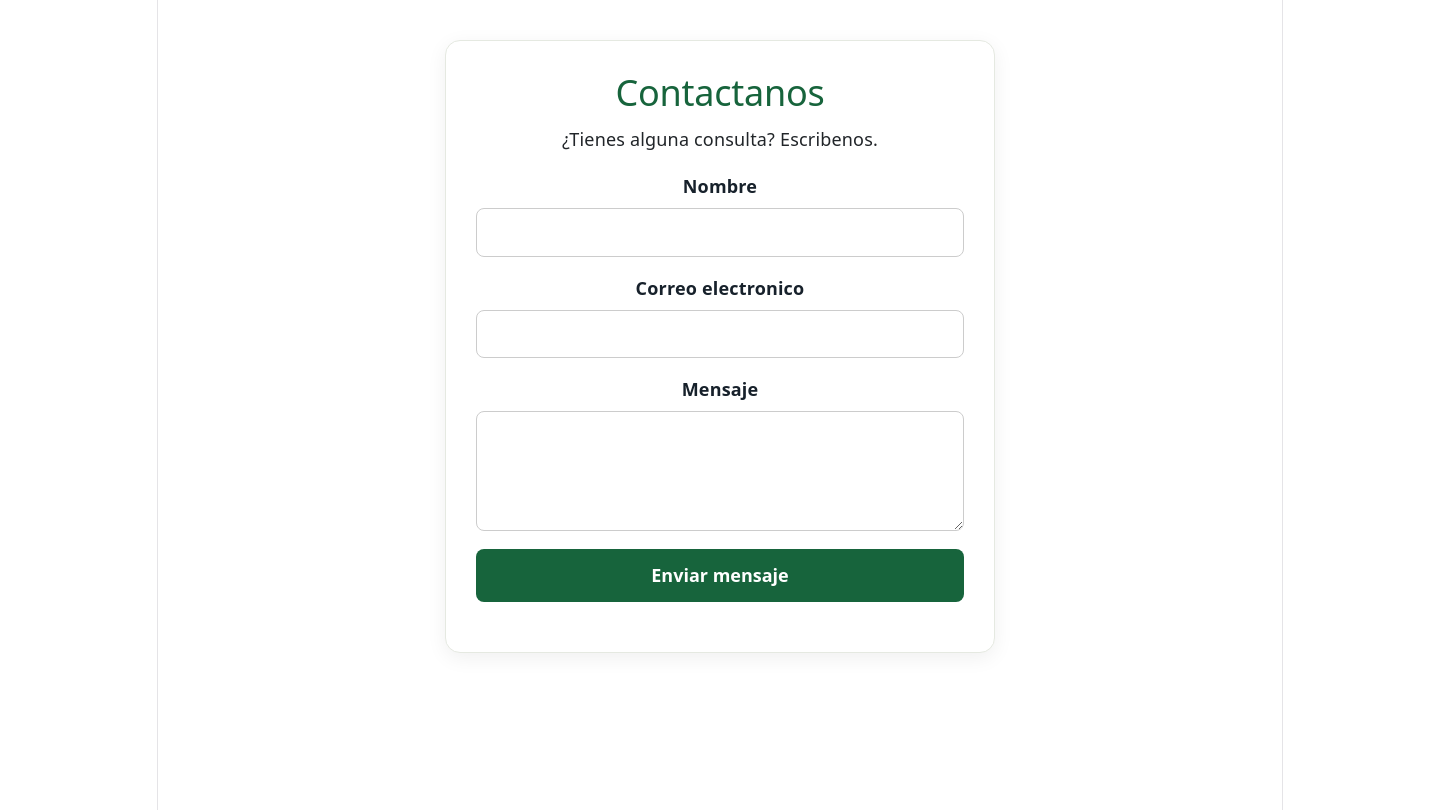
Scenario: muestra un error cuando los datos están vacíos
Click the button "Enviar mensaje" at (720, 576), box left=476, top=549, right=964, bottom=602
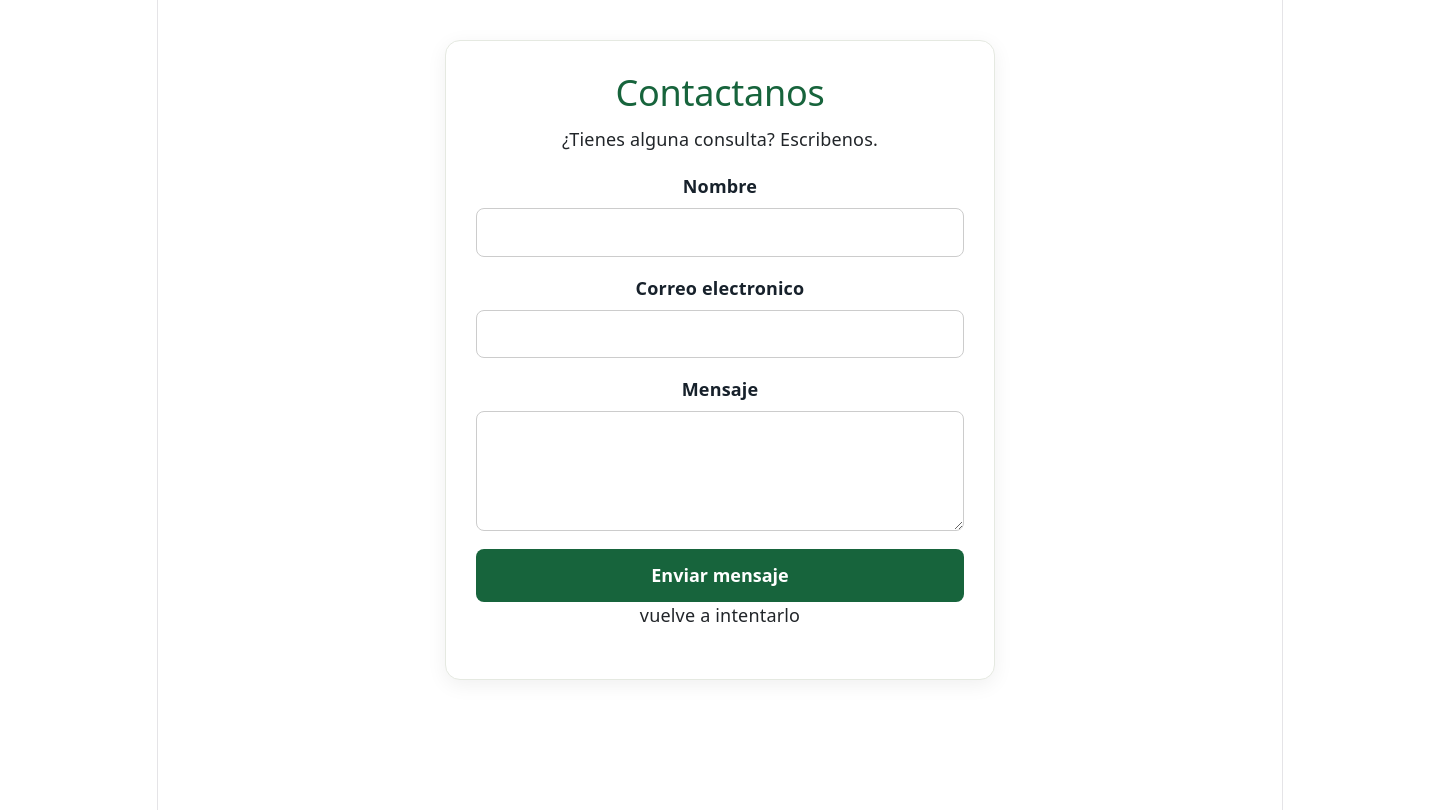
Expected: the text "vuelve a intentarlo" is shown, left=640, top=603, right=800, bottom=627
